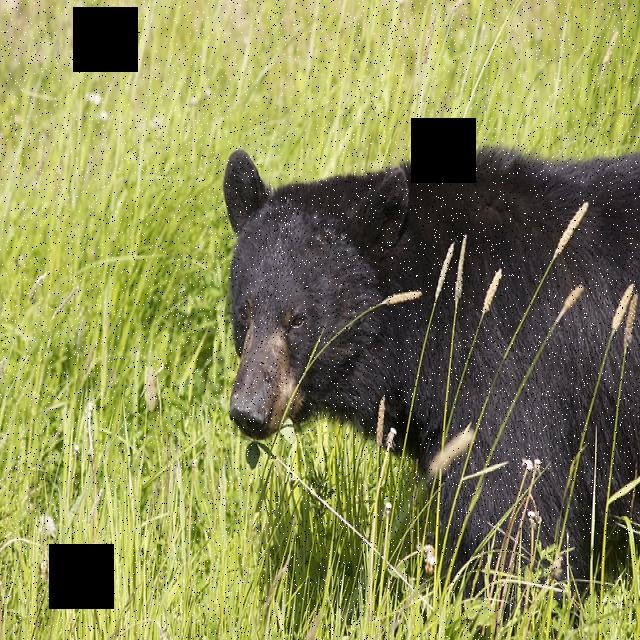Bear: (214, 124, 640, 629)
